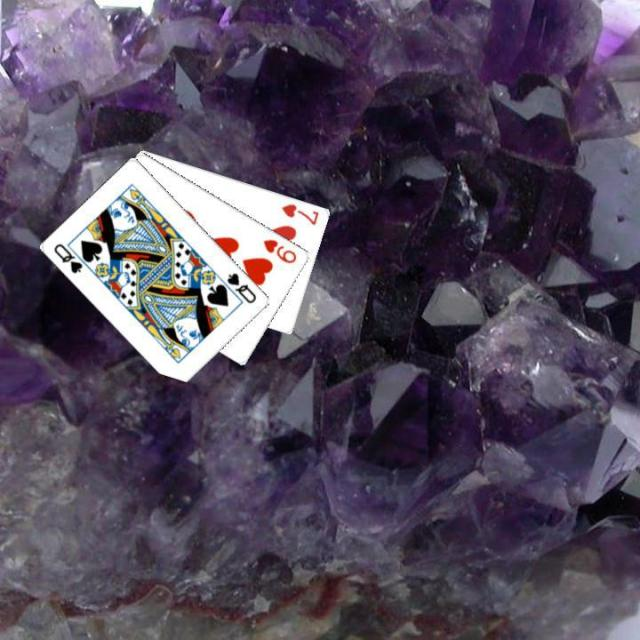7H: (278, 200, 321, 227)
9H: (260, 235, 298, 265)
QS: (223, 269, 259, 306), (50, 239, 85, 276)
